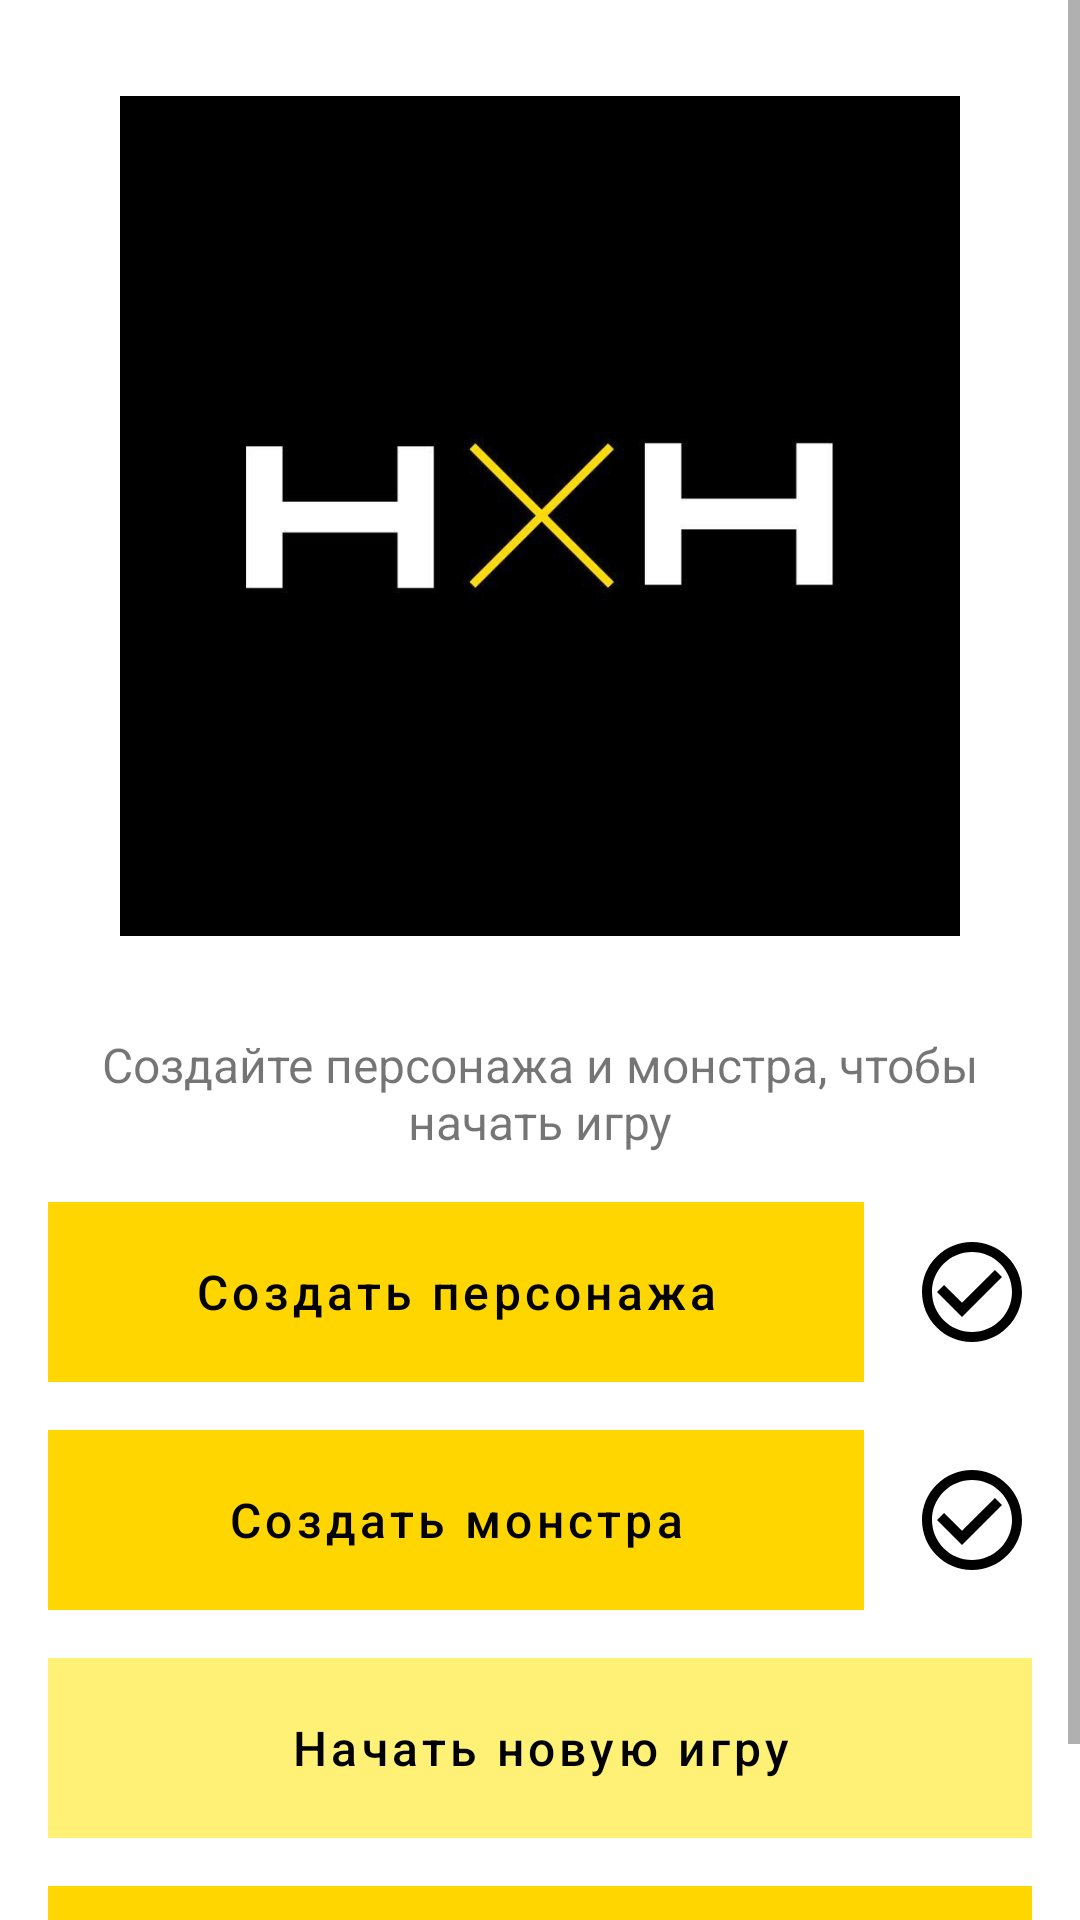

Screen size 1080×1920. Icon name, then its center in pixels as point (x, y):
check mark: point (972, 1292), point (972, 1520)
